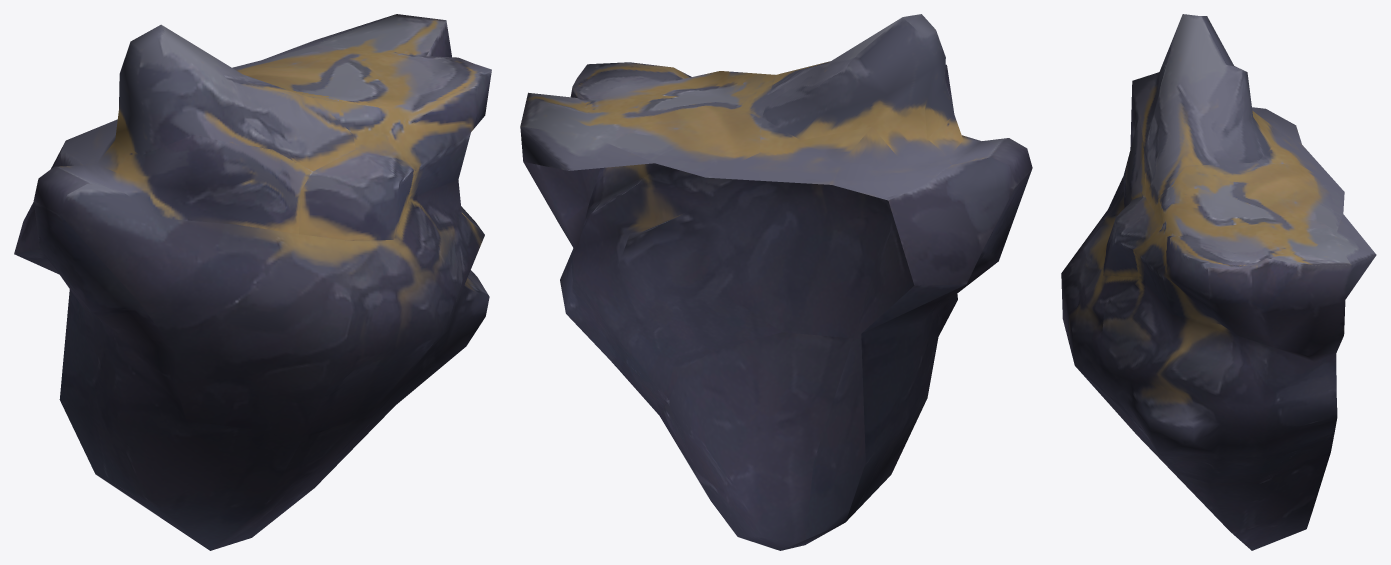
Rendered from scene_malujiakuangdao_shan010.FBX.
3 views of the same model, side by side, from view 1: azimuth 30°, elevation 25°; view 2: azimuth 150°, elevation 25°; view 3: azimuth 270°, elevation 25° (orthographic). The views are drawn at different scales.
Visible parts, largest first — view 1: scene_malujiakuangdao_shan010; view 2: scene_malujiakuangdao_shan010; view 3: scene_malujiakuangdao_shan010.
Part boxes in pixels (x1,y1,x2,y2): scene_malujiakuangdao_shan010: (14, 14, 491, 550); scene_malujiakuangdao_shan010: (520, 14, 1032, 550); scene_malujiakuangdao_shan010: (1061, 14, 1376, 550).
Bounding box in the file's own units: 1149 × 1325 × 780.
